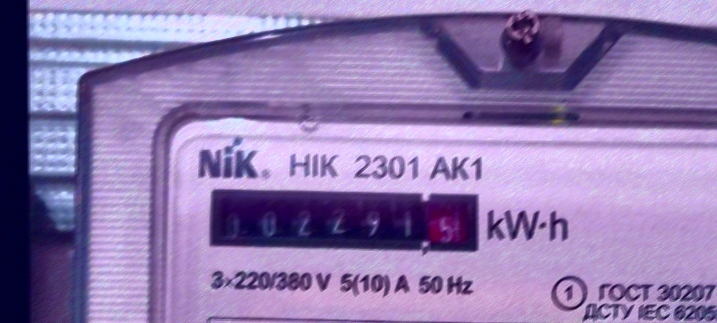0: (223, 209, 241, 238), (261, 208, 277, 237)
1: (400, 206, 414, 241)
2: (296, 208, 312, 237), (331, 206, 345, 235)
5: (438, 213, 454, 243)
9: (365, 208, 381, 238)
screen: (206, 182, 483, 260)
